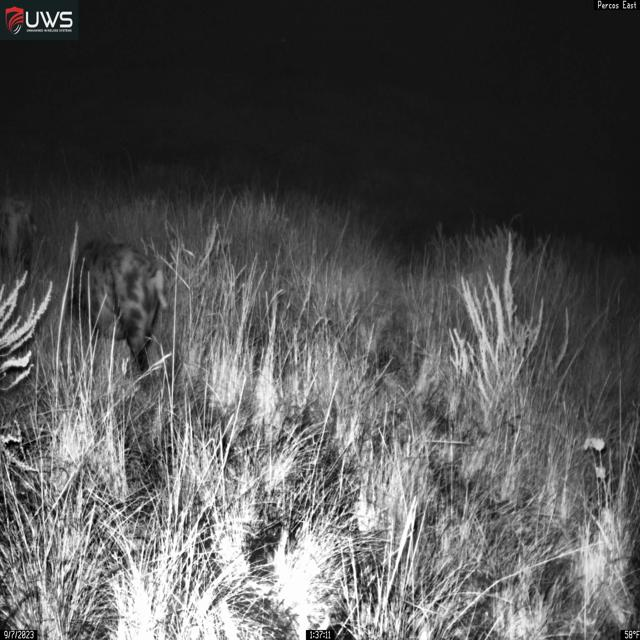pig: (68, 236, 169, 376)
